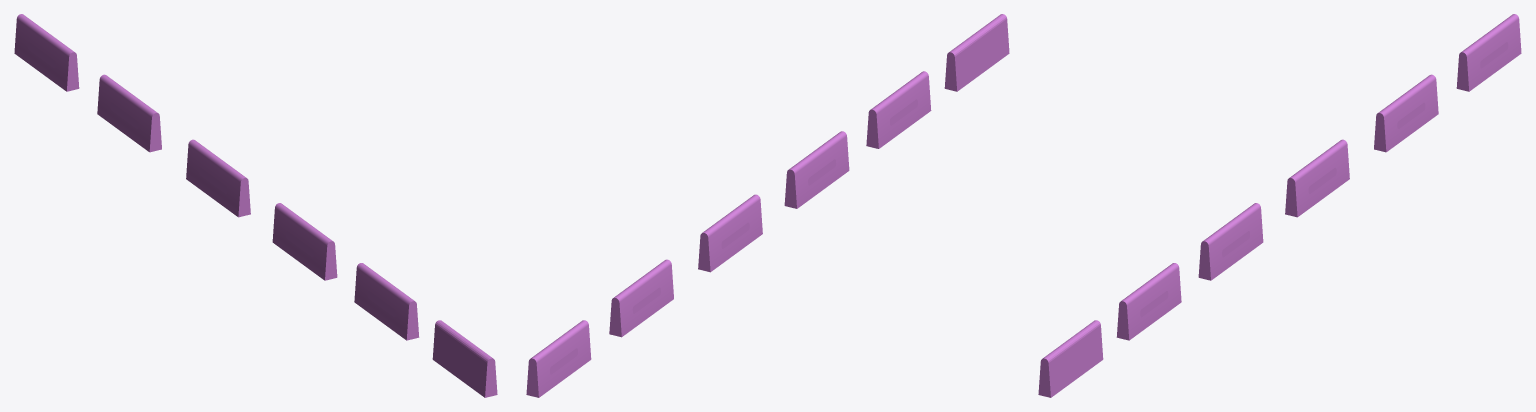
Rendered from Fance.FBX.
3 views of the same model, side by side, from view 1: azimuth 30°, elevation 25°; view 2: azimuth 150°, elevation 25°; view 3: azimuth 330°, elevation 25° (orthographic).
Visible parts, largest first — view 1: Fence_B; view 2: Fence_B; view 3: Fence_B.
Boxes of the visible parts, x1,y1,x2,y2 form: Fence_B: (14, 14, 497, 397); Fence_B: (526, 14, 1009, 397); Fence_B: (1038, 14, 1521, 397).
Size of the model in its own units: 16.32 by 47.24 by 1062.
